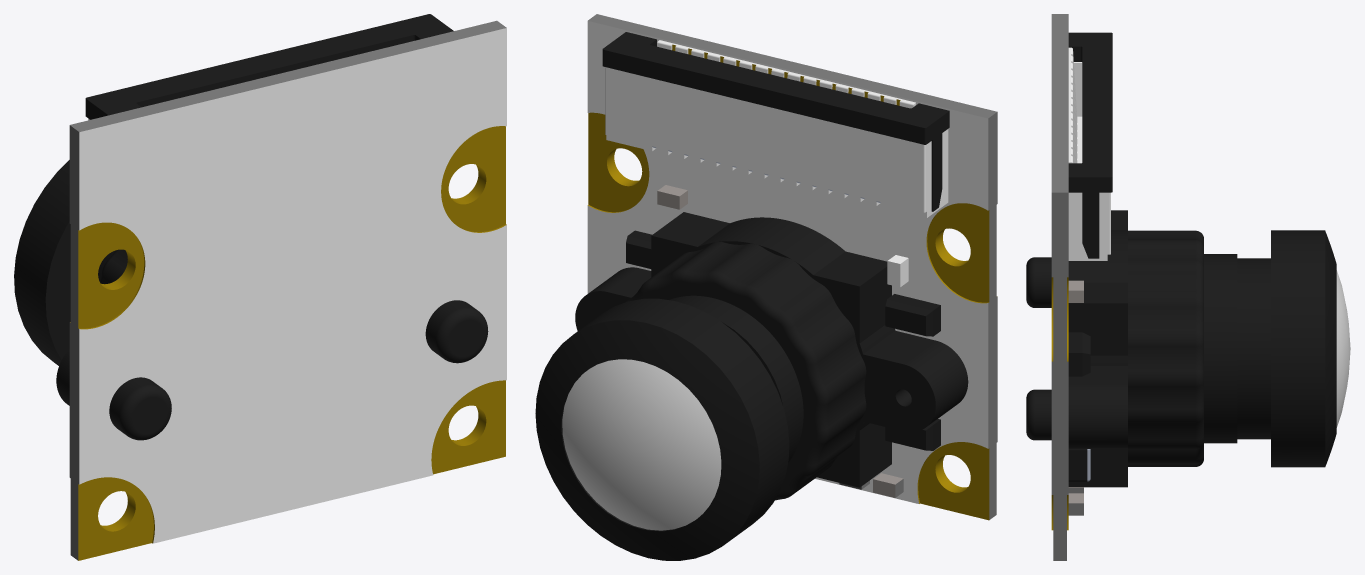
Rendered from fisheye_camera.dae.
3 views of the same model, side by side, from view 1: azimuth 30°, elevation 25°; view 2: azimuth 150°, elevation 25°; view 3: azimuth 270°, elevation 25° (orthographic). The views are drawn at different scales.
Parts seen in each view (by area): view 1: rpiCameraM, rpiCameraM_lens; view 2: rpiCameraM, rpiCameraM_lens; view 3: rpiCameraM, rpiCameraM_lens.
Part boxes in pixels (x1=…): rpiCameraM: x1=56, y1=14, x2=506, y2=560; rpiCameraM_lens: x1=14, y1=160, x2=115, y2=365; rpiCameraM: x1=575, y1=14, x2=997, y2=520; rpiCameraM_lens: x1=535, y1=295, x2=803, y2=560; rpiCameraM: x1=1026, y1=14, x2=1203, y2=560; rpiCameraM_lens: x1=1204, y1=230, x2=1350, y2=467.
Size of the model in its own units: 0.025 by 0.0192 by 0.024.
